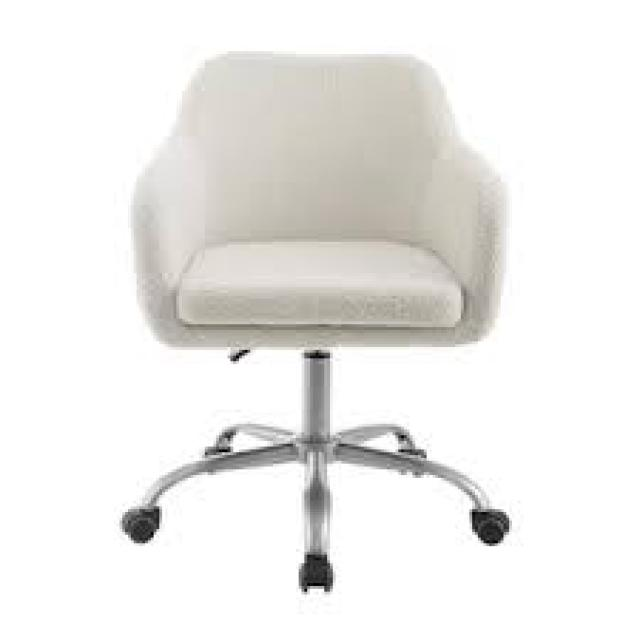chair: (77, 25, 547, 640)
